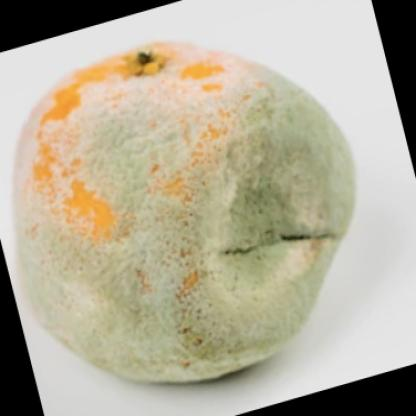rotten: (22, 43, 358, 385)
